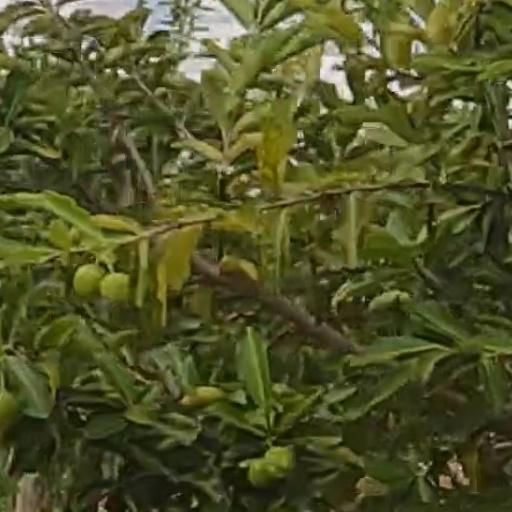acerola_verde: (73, 265, 101, 292), (250, 461, 278, 488), (267, 447, 292, 475), (104, 273, 128, 301)
